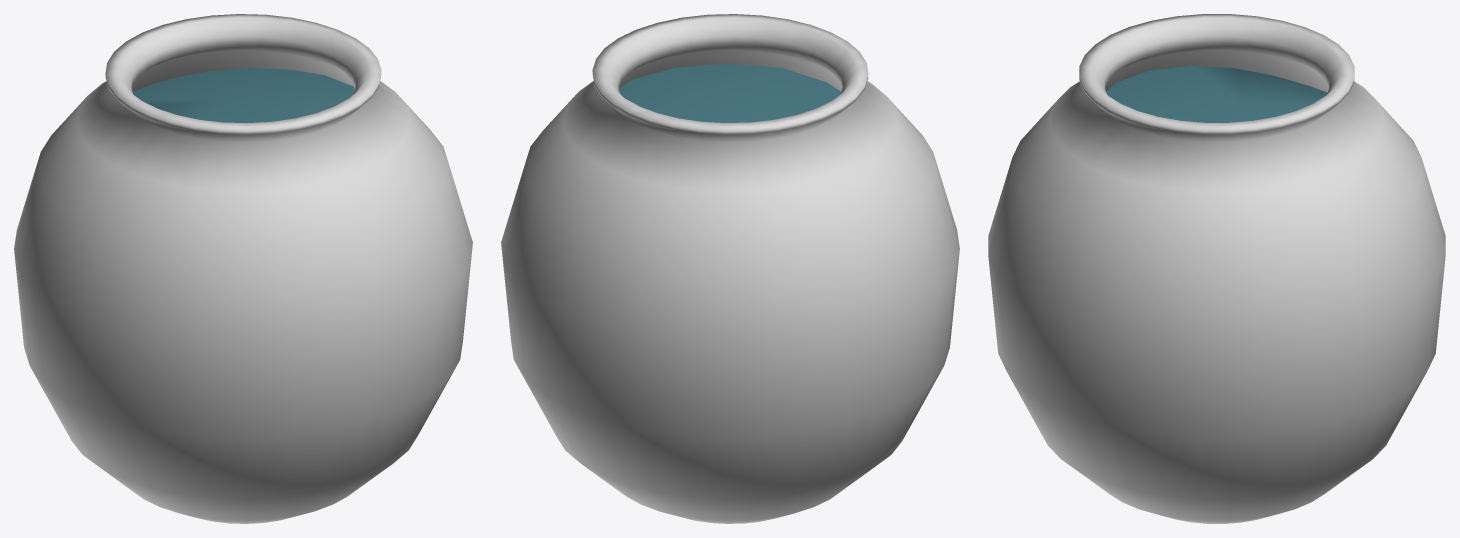
Rendered from Fish_bowl.fbx.
The picture shows the model from 3 angles, left to right: view 1: azimuth 30°, elevation 25°; view 2: azimuth 150°, elevation 25°; view 3: azimuth 270°, elevation 25°; orthographic projection.
Parts seen in each view (by area): view 1: FishBowl, Water; view 2: FishBowl, Water; view 3: FishBowl, Water.
Boxes of the visible parts, left/top/right/bottom form: FishBowl: left=14, top=14, right=472, bottom=523; Water: left=133, top=68, right=354, bottom=122; FishBowl: left=501, top=14, right=959, bottom=523; Water: left=619, top=63, right=840, bottom=122; FishBowl: left=988, top=14, right=1445, bottom=523; Water: left=1106, top=65, right=1326, bottom=122.
Bounding box in the file's own units: 66.94 × 68.56 × 66.94.
